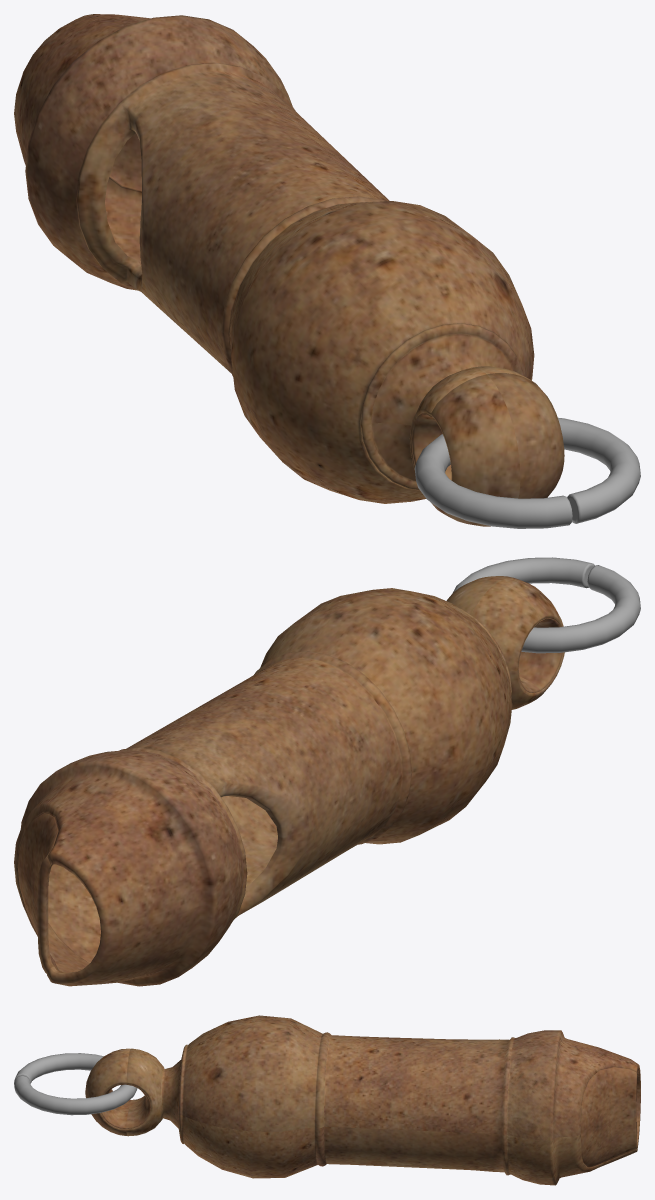
The model's file is whisle.dae.
3 views of the same model, one above another, from view 1: azimuth 30°, elevation 25°; view 2: azimuth 150°, elevation 25°; view 3: azimuth 270°, elevation 25° (orthographic). The views are drawn at different scales.
Parts seen in each view (by area): view 1: Whisle; view 2: Whisle; view 3: Whisle.
Part boxes in pixels (x1,y1,x2,y2): Whisle: [14, 14, 640, 528]; Whisle: [14, 557, 640, 986]; Whisle: [14, 1015, 640, 1185].
Bounding box in the file's own units: 0.0203 × 0.018 × 0.069.
2 materials, 1 textured.
